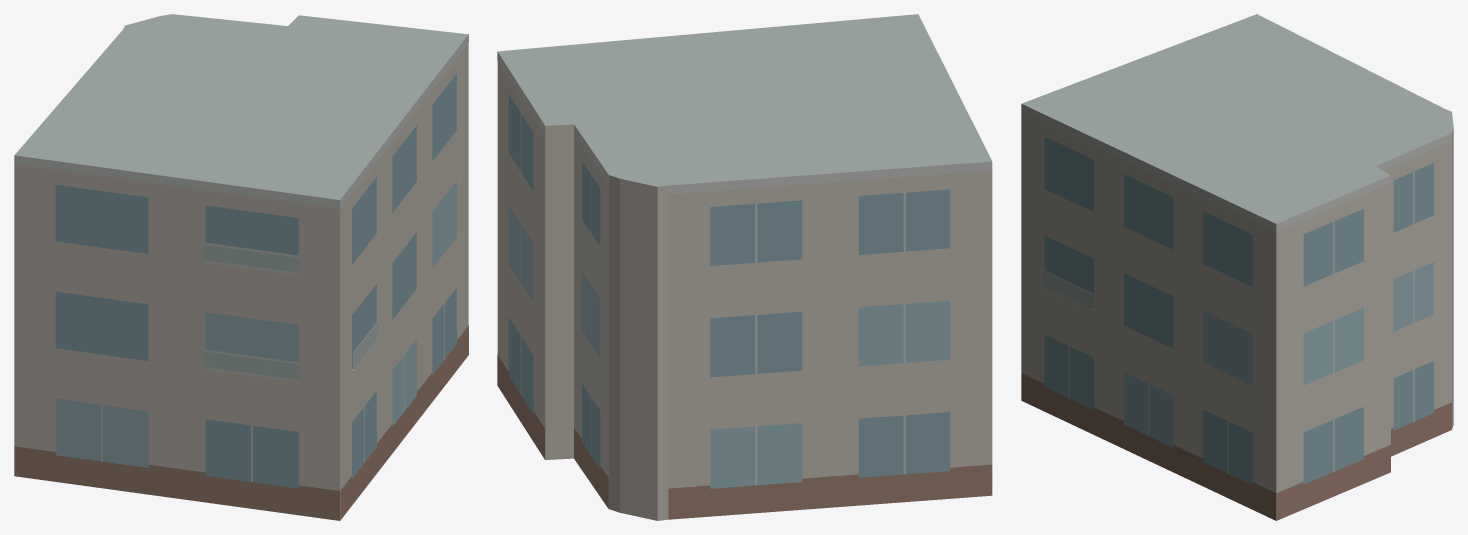
Rendered from survey-upis-32592838.glb.
The picture shows the model from 3 angles, left to right: view 1: azimuth 30°, elevation 25°; view 2: azimuth 150°, elevation 25°; view 3: azimuth 270°, elevation 25°; orthographic projection. The views are drawn at different scales.
Parts seen in each view (by area): view 1: survey-upis-32592838.tmp; view 2: survey-upis-32592838.tmp; view 3: survey-upis-32592838.tmp.
Part boxes in pixels (x1=…): survey-upis-32592838.tmp: x1=14, y1=14, x2=468, y2=520; survey-upis-32592838.tmp: x1=497, y1=14, x2=992, y2=520; survey-upis-32592838.tmp: x1=1021, y1=14, x2=1453, y2=520.
Size of the model in its own units: 13.88 by 9.15 by 12.08.
